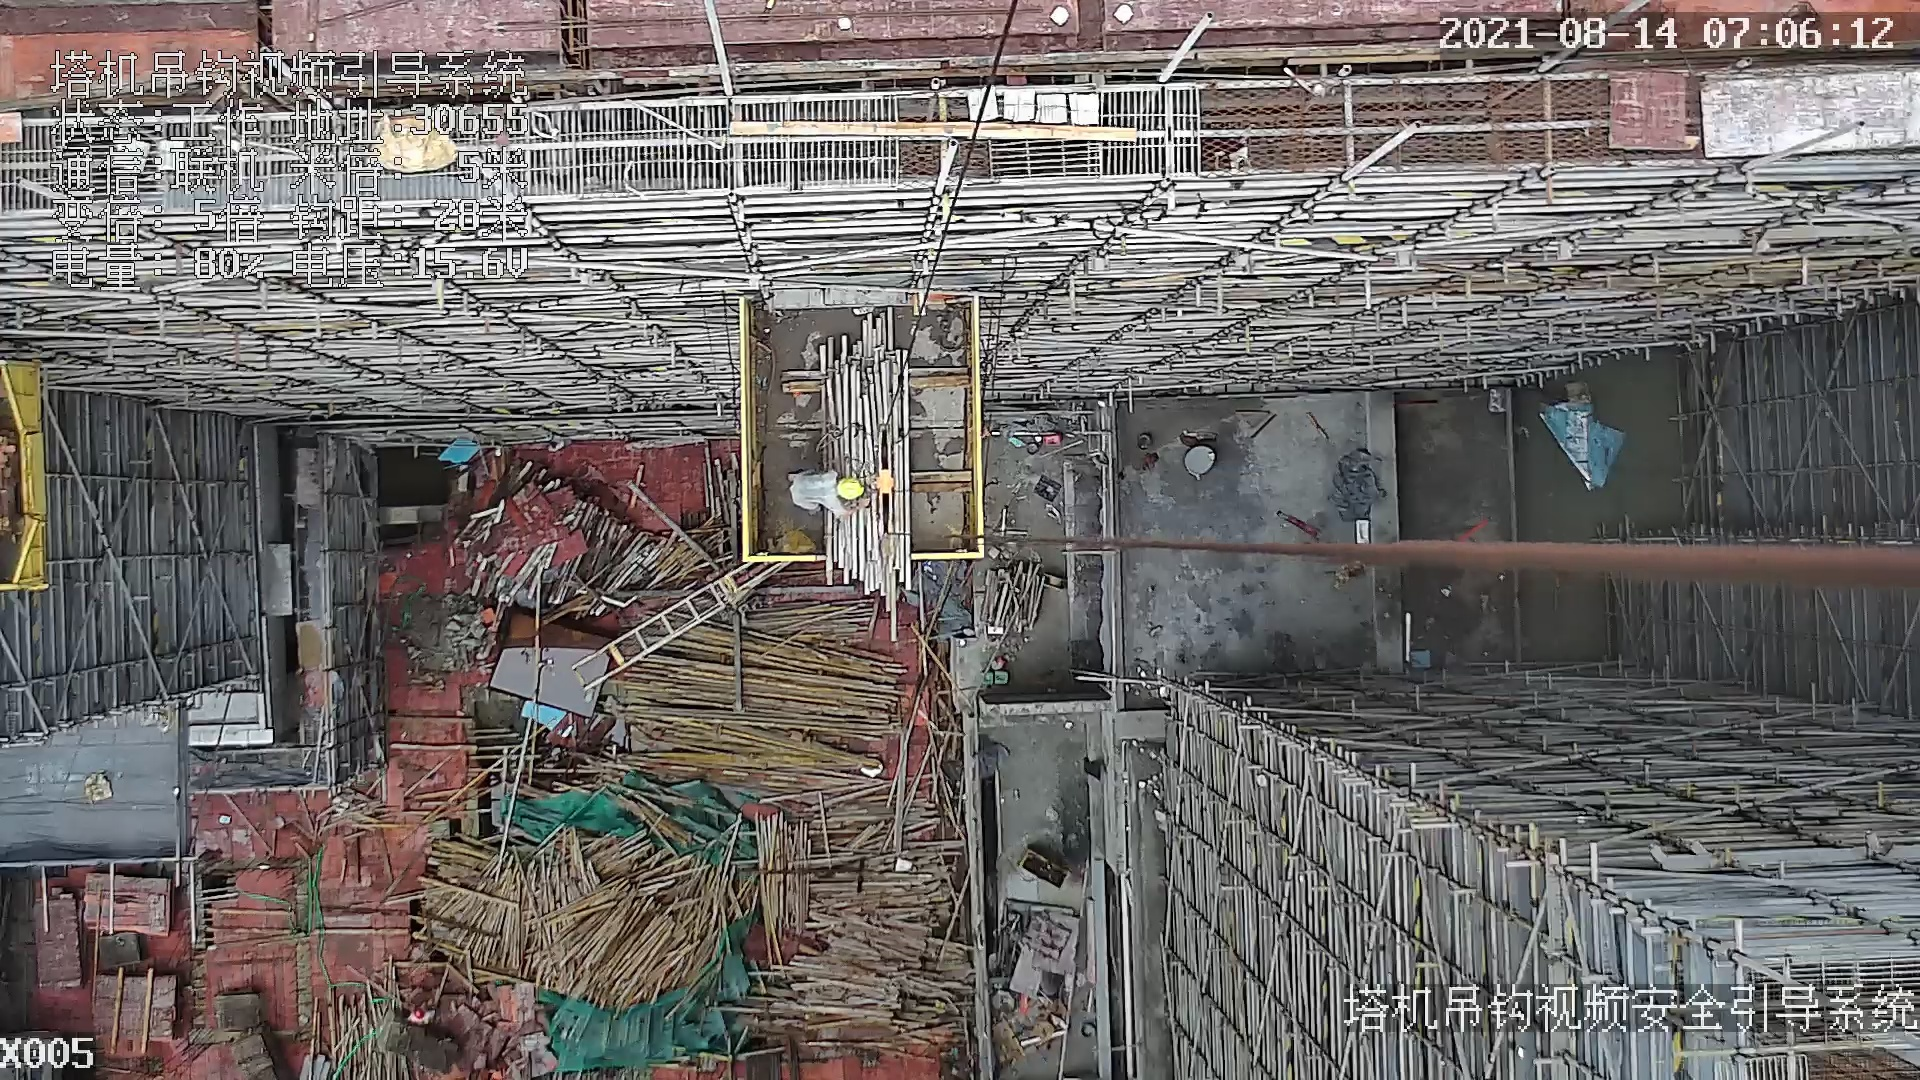helmet: (838, 476, 864, 501)
hook: (860, 418, 908, 536)
person: (791, 469, 878, 526)
